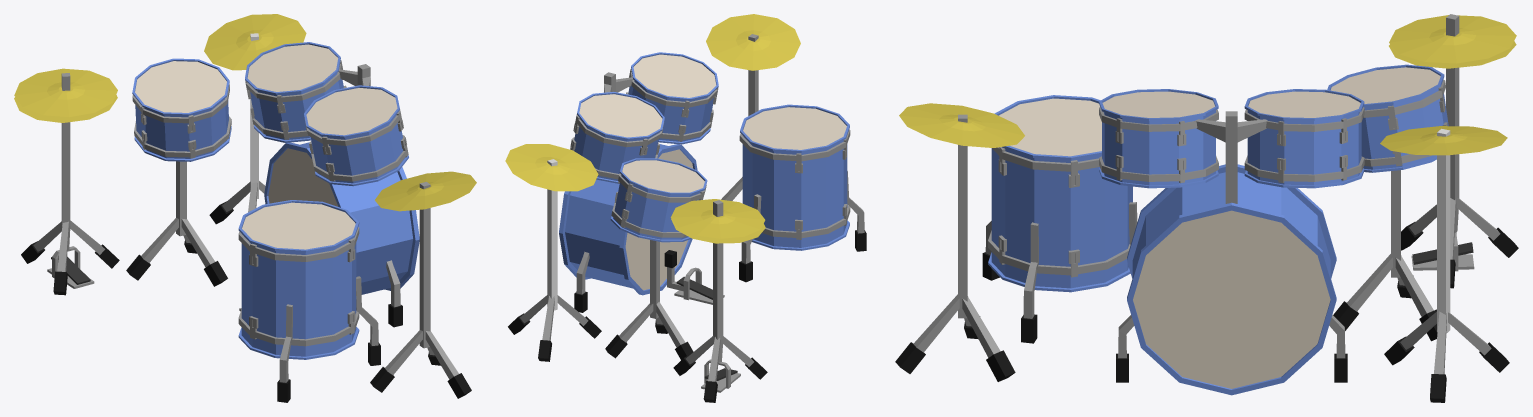
The model's file is Drums.fbx.
3 views of the same model, side by side, from view 1: azimuth 30°, elevation 25°; view 2: azimuth 150°, elevation 25°; view 3: azimuth 270°, elevation 25° (orthographic). The views are drawn at different scales.
Visible parts, largest first — view 1: Cylinder.006, Cylinder.004, Cylinder.003, Cylinder.009, Cylinder.012, Cylinder.011, Cylinder.005, Cylinder.008, Cylinder.007, Cylinder.010, Cube.009, Cube.022 (+16 smaller); view 2: Cylinder.006, Cylinder.004, Cylinder.003, Cylinder.009, Cylinder.008, Cylinder.011, Cylinder.012, Cylinder.005, Cylinder.007, Cube.022, Cube.018, Cylinder.010 (+18 smaller); view 3: Cylinder.003, Cylinder.006, Cylinder.004, Cylinder.009, Cylinder.005, Cylinder.012, Cylinder.008, Cylinder.007, Cylinder.011, Cube.018, Cube.004, Cube.009 (+16 smaller).
Boxes of the visible parts, bbox=[...] form: Cylinder.006: bbox=[238, 200, 359, 359]; Cylinder.004: bbox=[245, 42, 408, 186]; Cylinder.003: bbox=[264, 142, 419, 294]; Cylinder.009: bbox=[132, 58, 231, 161]; Cylinder.012: bbox=[14, 68, 117, 117]; Cylinder.011: bbox=[204, 14, 306, 70]; Cylinder.005: bbox=[245, 60, 408, 181]; Cylinder.008: bbox=[375, 171, 476, 211]; Cylinder.007: bbox=[238, 227, 359, 346]; Cylinder.010: bbox=[132, 84, 231, 158]; Cube.009: bbox=[419, 182, 430, 348]; Cube.022: bbox=[61, 73, 70, 250]; Cylinder.006: bbox=[740, 104, 849, 250]; Cylinder.004: bbox=[574, 52, 718, 183]; Cylinder.003: bbox=[559, 144, 697, 295]; Cylinder.009: bbox=[610, 158, 707, 242]; Cylinder.008: bbox=[706, 14, 800, 70]; Cylinder.011: bbox=[505, 144, 598, 191]; Cylinder.012: bbox=[670, 199, 765, 238]; Cylinder.005: bbox=[570, 69, 718, 179]; Cylinder.007: bbox=[739, 129, 850, 239]; Cube.022: bbox=[713, 200, 723, 362]; Cube.018: bbox=[547, 159, 557, 310]; Cylinder.010: bbox=[611, 173, 706, 237]; Cylinder.003: bbox=[1127, 164, 1336, 395]; Cylinder.006: bbox=[988, 95, 1132, 292]; Cylinder.004: bbox=[1099, 89, 1364, 188]; Cylinder.009: bbox=[1327, 64, 1448, 172]; Cylinder.005: bbox=[1099, 107, 1364, 183]; Cylinder.012: bbox=[1389, 15, 1516, 63]; Cylinder.008: bbox=[899, 103, 1024, 147]; Cylinder.007: bbox=[988, 147, 1130, 277]; Cylinder.011: bbox=[1380, 126, 1507, 155]; Cube.018: bbox=[1437, 128, 1450, 333]; Cube.004: bbox=[1195, 111, 1267, 203]; Cube.009: bbox=[958, 114, 967, 318].
Size of the model in its own units: 1303 by 1008 by 2046.
